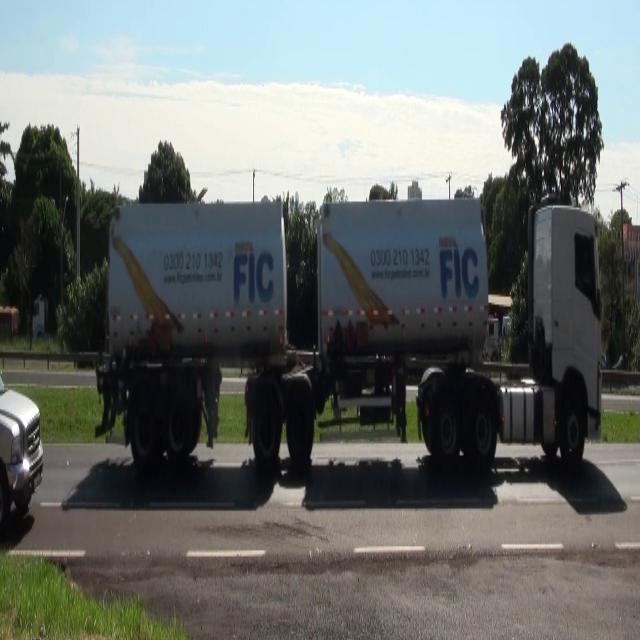-axle: (252, 384, 282, 474), (468, 384, 500, 466), (164, 377, 193, 464), (560, 388, 589, 474), (129, 388, 159, 471), (286, 382, 314, 462), (434, 394, 460, 467)
